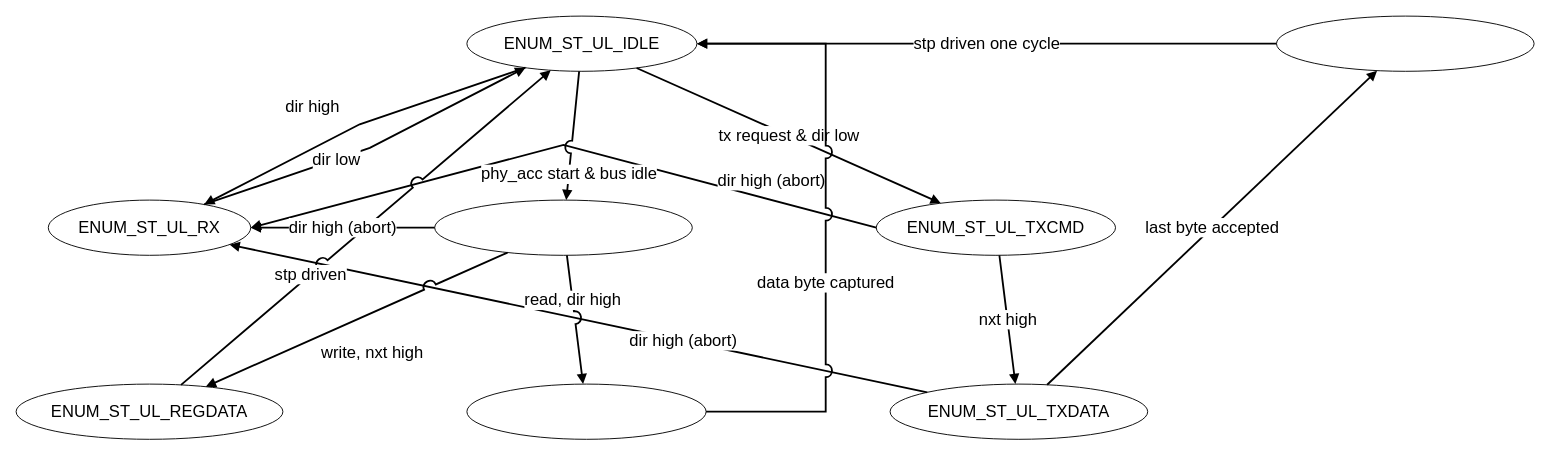
Image size: 1550x455. Some labels were removed from this diagram. The centre of each missing label's shape, as x and y in pixels:
ENUM_ST_UL_REGCMD: [563,227]
ENUM_ST_UL_REGRD: [586,411]
ENUM_ST_UL_TXSTOP: [1405,43]
